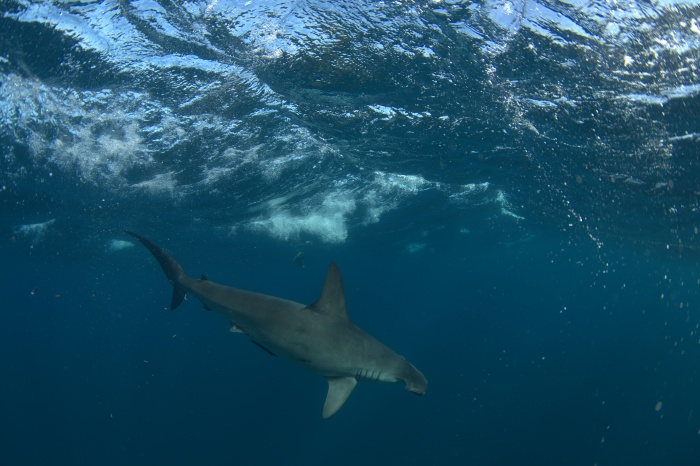Hammer: (118, 215, 435, 426)
